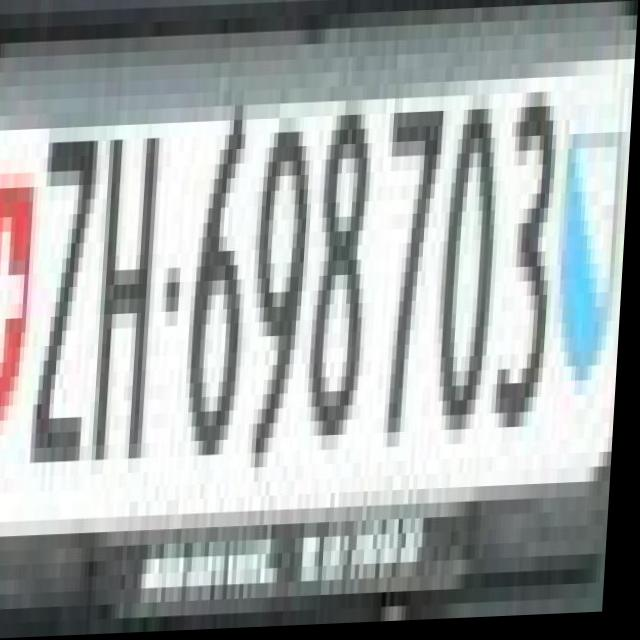0: (434, 84, 504, 450)
3: (494, 82, 566, 462)
6: (171, 93, 258, 444)
7: (368, 115, 441, 437)
8: (302, 89, 377, 469)
9: (247, 90, 320, 485)
H: (88, 96, 168, 476)
Z: (24, 98, 106, 449)
